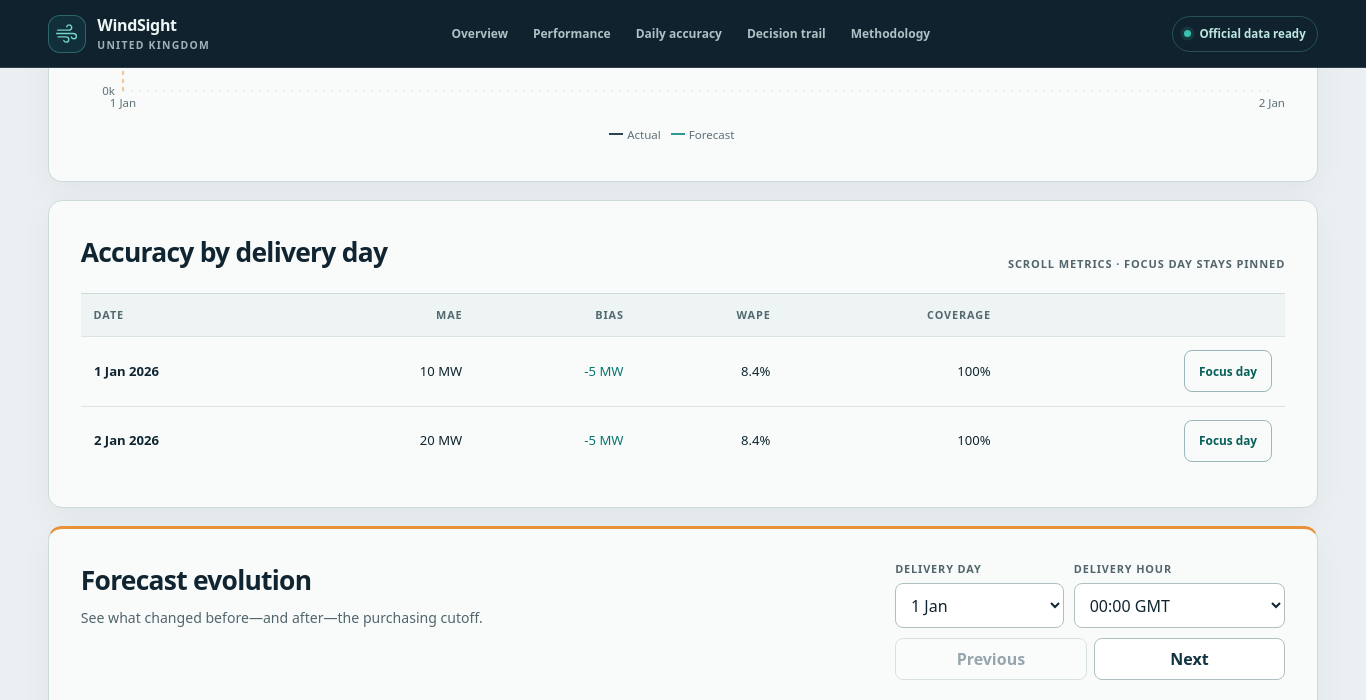
Test case: WindSight dashboard › focuses the dashboard when a daily table row is selected
(page scrolled)
Click the button with aria-label "Focus day — 2 January 2026" at point(1228, 441), box [1184,420,1272,462]
(page scrolled)
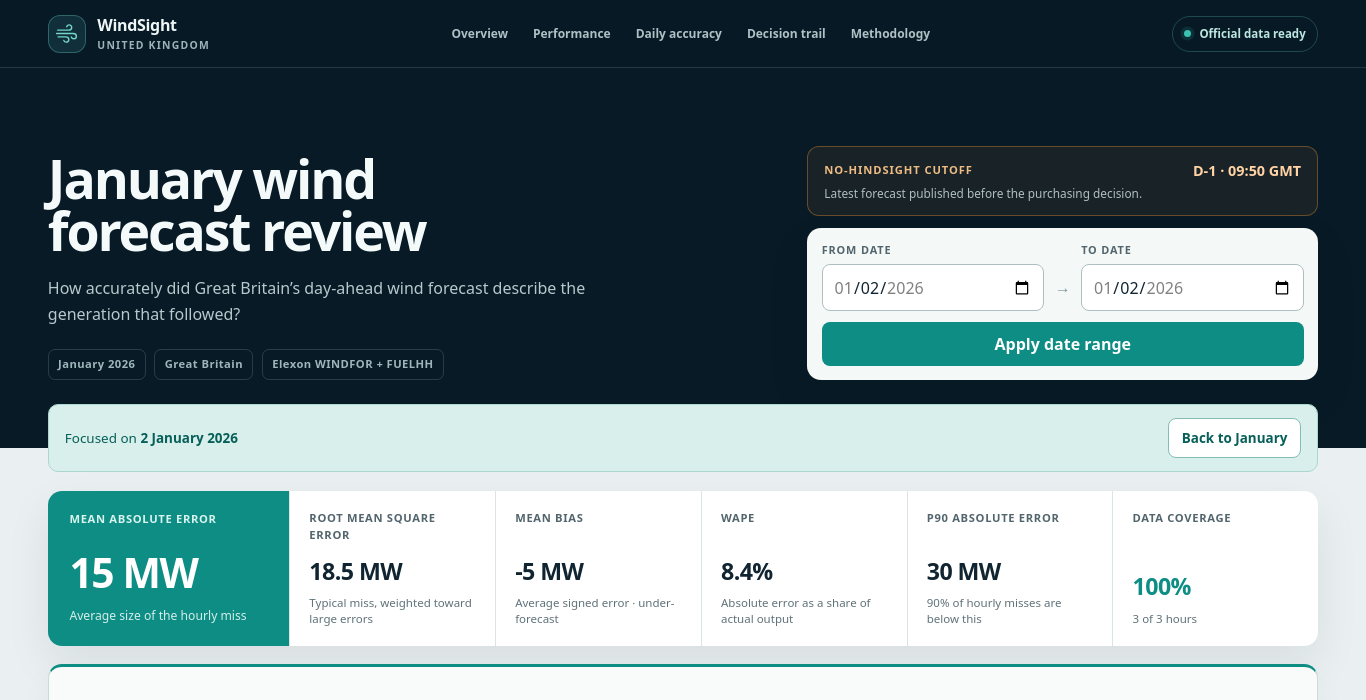
Now the date field labelled "From date" holds "2026-01-02", box [822,264,1044,311]
Now the date field labelled "To date" holds "2026-01-02", box [1081,264,1304,311]
Now the message named "Active date filter" shows "2 January 2026", box [140,429,238,447]
Click the button "Back to January" at point(1235, 438), box [1168,418,1301,458]
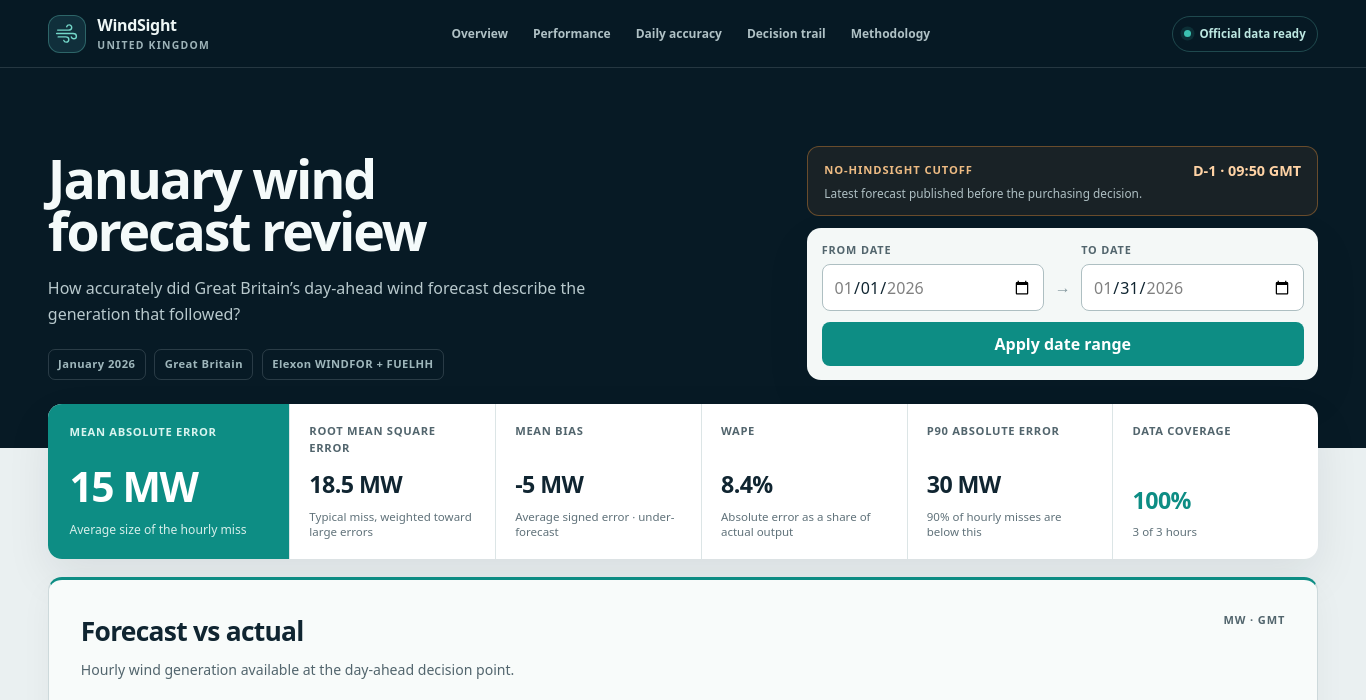
Now the date field labelled "From date" holds "2026-01-01", box [822,264,1044,311]
Now the date field labelled "To date" holds "2026-01-31", box [1081,264,1304,311]
